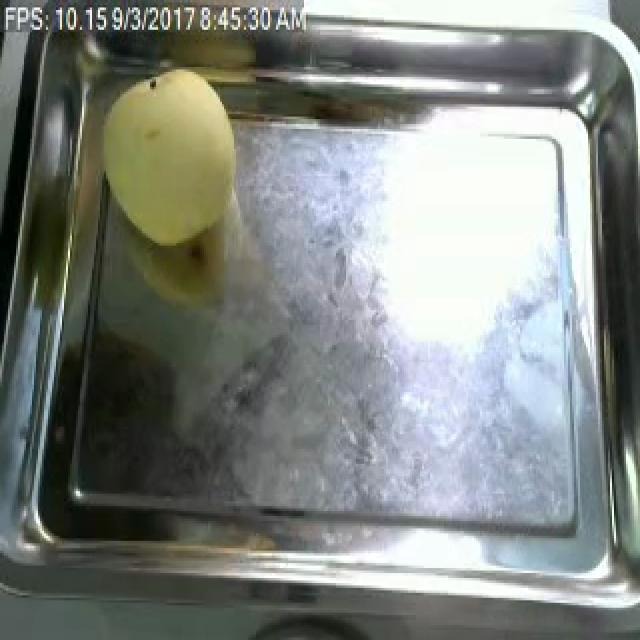Fruit: (72, 60, 252, 258)
